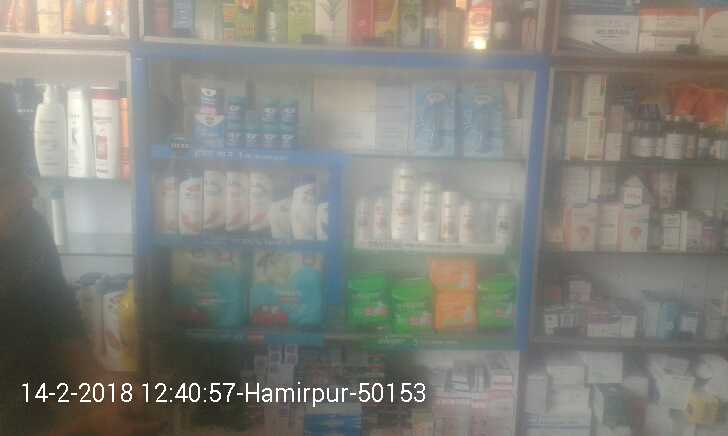venus: (455, 80, 500, 156), (414, 79, 455, 156)
